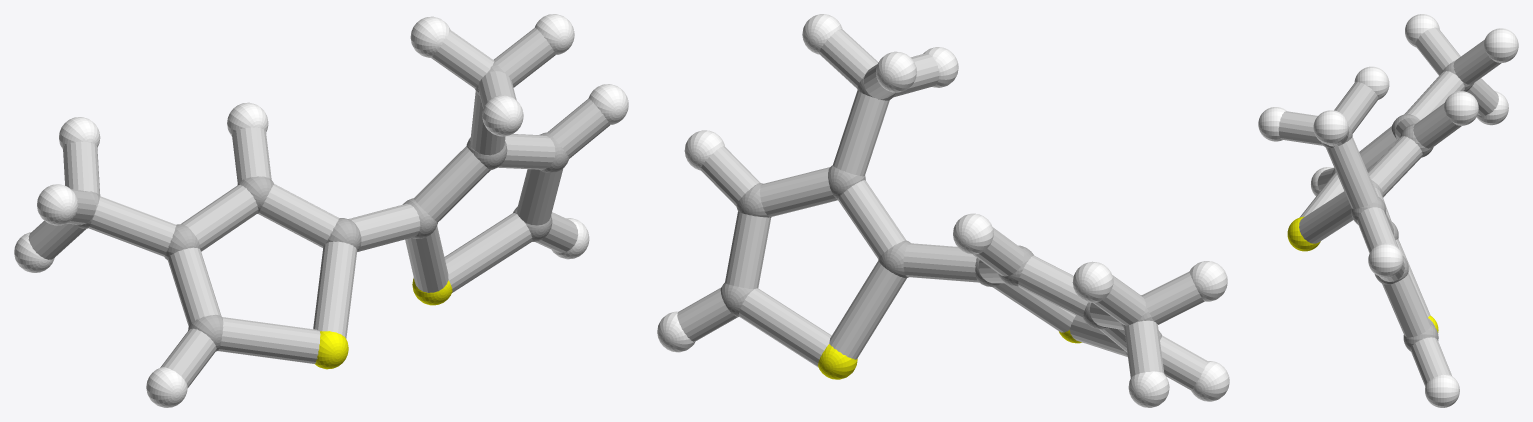
The model's file is Methylthiophene_Phi_20_Theta_250_Methylthiophene.glb.
3 views of the same model, side by side, from view 1: azimuth 30°, elevation 25°; view 2: azimuth 150°, elevation 25°; view 3: azimuth 270°, elevation 25° (orthographic). The views are drawn at different scales.
Visible parts, largest first — view 1: grp7965, grp3621, grp1, grp7241; view 2: grp7965, grp3621, grp1, grp7241; view 3: grp7965, grp3621, grp1, grp7241.
Boxes of the visible parts, x1,y1,x2,y2 form: grp7965: (28, 28, 609, 387); grp3621: (14, 14, 628, 407); grp1: (74, 62, 569, 351); grp7241: (315, 278, 452, 369); grp7965: (677, 29, 1207, 390); grp3621: (657, 14, 1229, 407); grp1: (720, 76, 1161, 356); grp7241: (818, 330, 1081, 379); grp7965: (1278, 27, 1501, 386); grp3621: (1258, 14, 1518, 407); grp1: (1321, 61, 1473, 351); grp7241: (1287, 216, 1438, 332).
Bounding box in the file's own units: 9.43 × 5.01 × 4.46.
